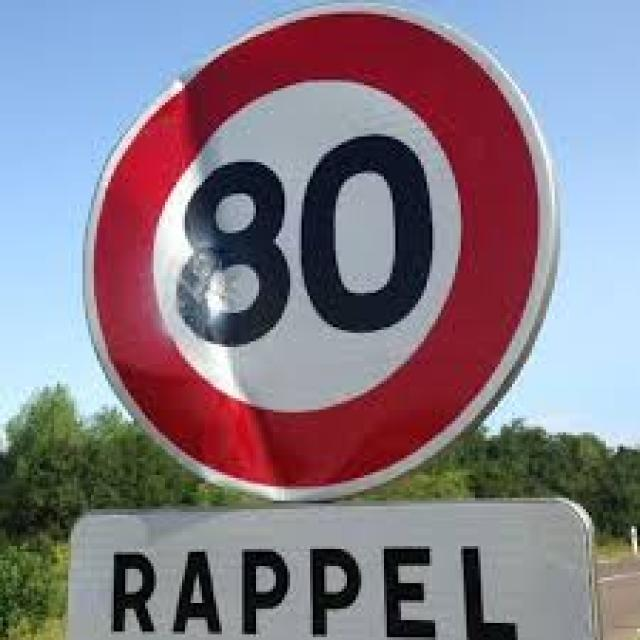speed: (80, 6, 554, 506)
